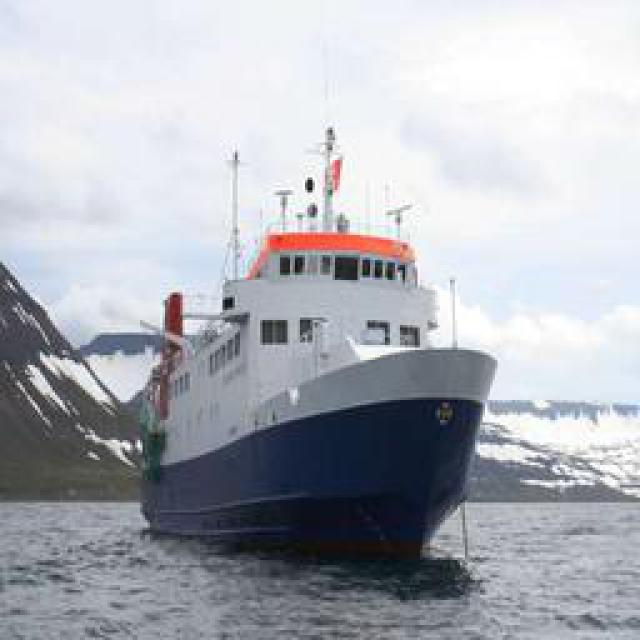Ship: (92, 79, 495, 559)
